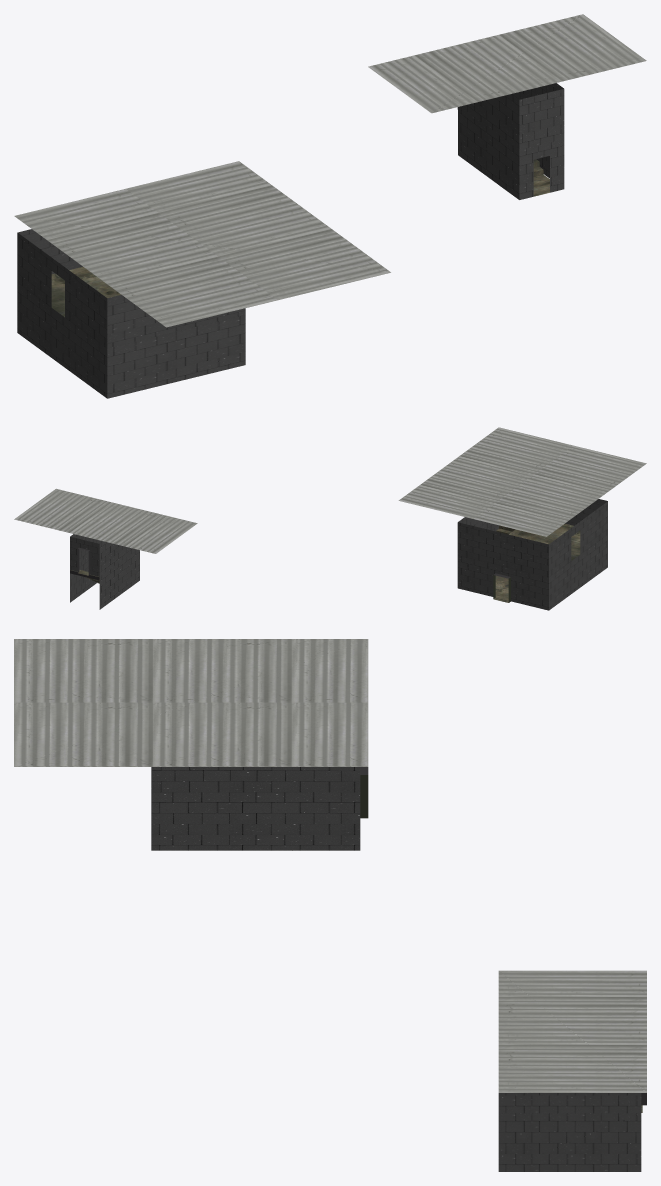
Rendered from KillHouse.fbx.
3 views of the same model, one above another, from view 1: azimuth 30°, elevation 25°; view 2: azimuth 150°, elevation 25°; view 3: azimuth 270°, elevation 25° (orthographic). The views are drawn at different scales.
Parts seen in each view (by area): view 1: Room8, Room4; view 2: Room8, Room4; view 3: Room8, Room4.
Boxes of the visible parts, box(x1,y1,x2,y2) form: Room8: box(14, 161, 390, 398); Room4: box(368, 14, 646, 199); Room8: box(398, 427, 646, 610); Room4: box(14, 488, 197, 609); Room8: box(14, 639, 368, 850); Room4: box(498, 970, 646, 1171).
Bounding box in the file's own units: 37.97 × 8.54 × 25.98.
